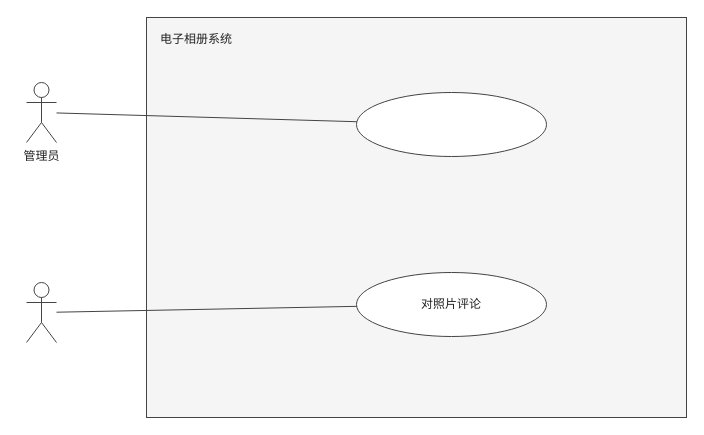
This 704x435 diagram has some shape labels left out. Each missing label, with the centre of its shape:
"普通用户" belongs at point (41, 312).
"相册类别管理" belongs at point (451, 124).
